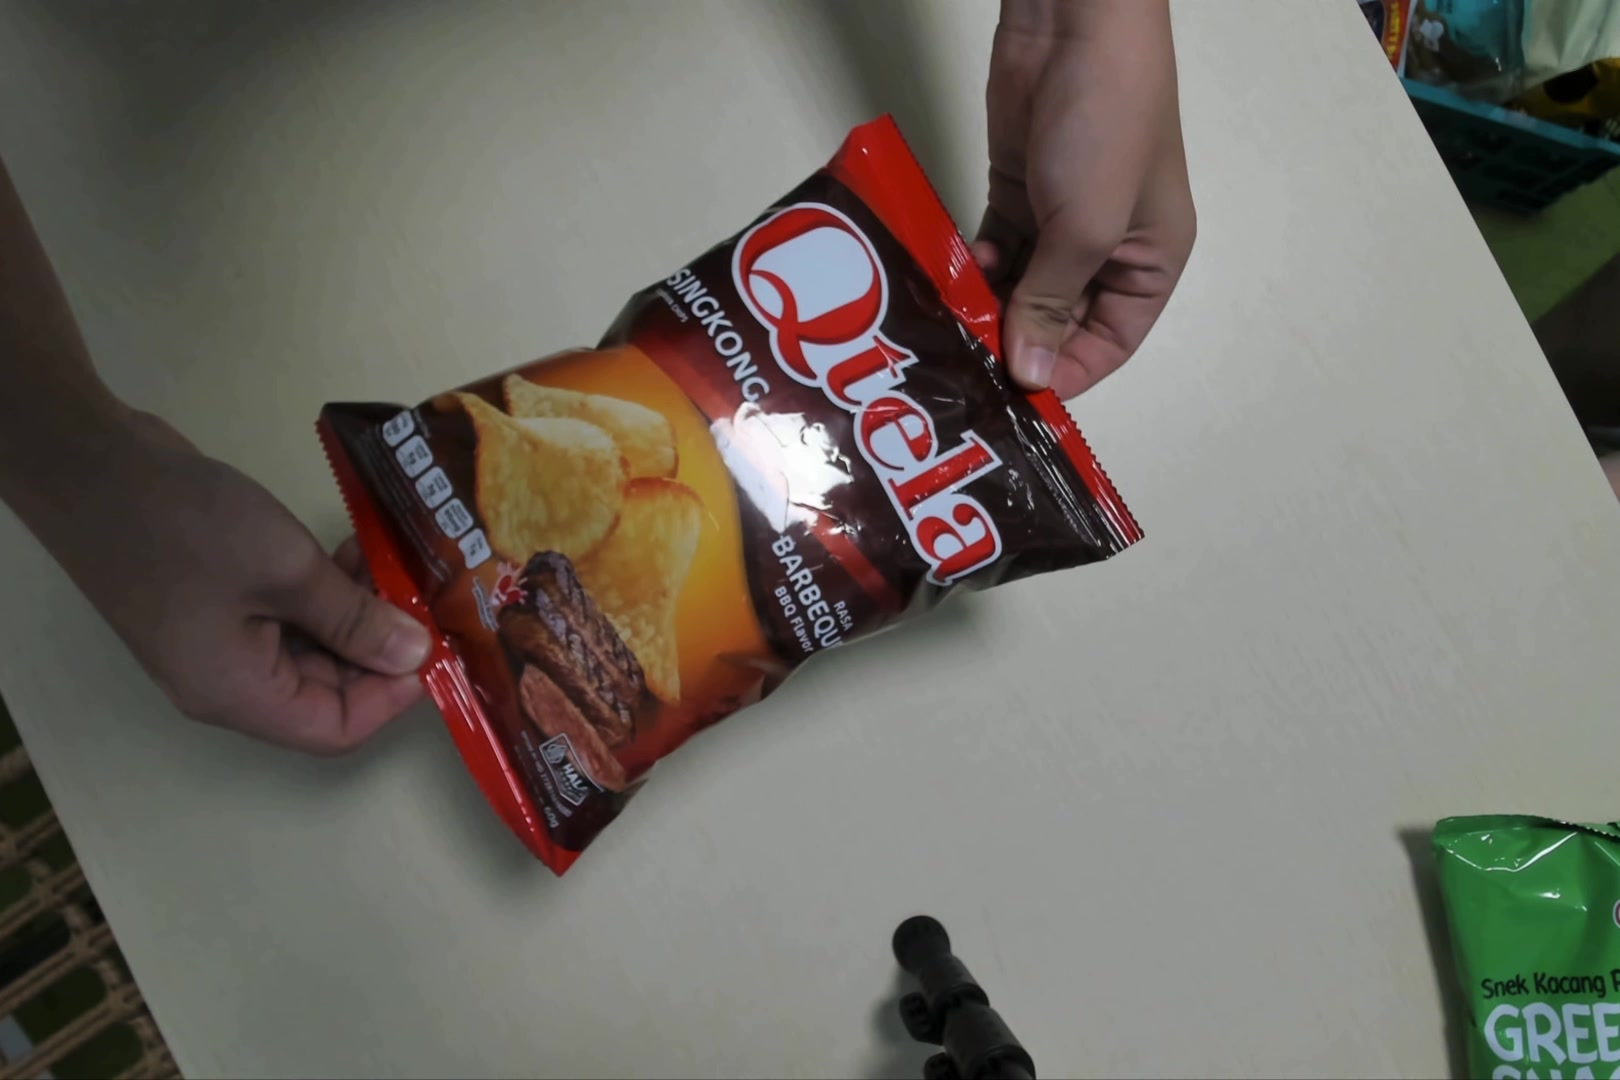PotatoChipsKeropok_0-99g_Halal_NonHealthy: (315, 115, 1140, 888)
